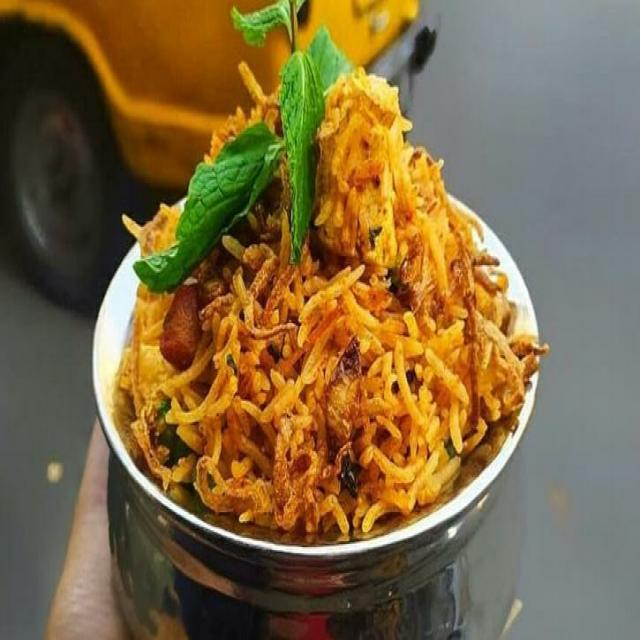Biryani: (111, 0, 548, 544)
